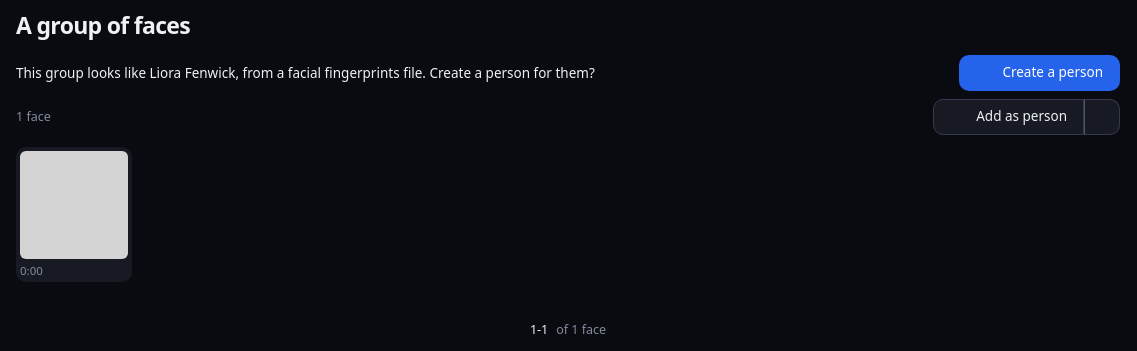
Scenario: asks to make them a person, then links to the person made
Click the button "Create a person" at (1040, 73), box 959,55 -> 1120,91
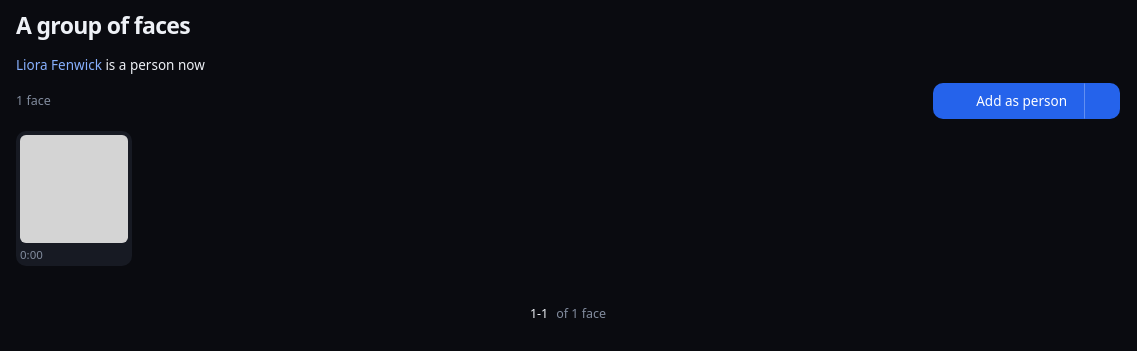
Now the element with class "asks" reads "Liora Fenwick is a person now", box 16,55 -> 205,75
Now the button "Create a person" is gone
